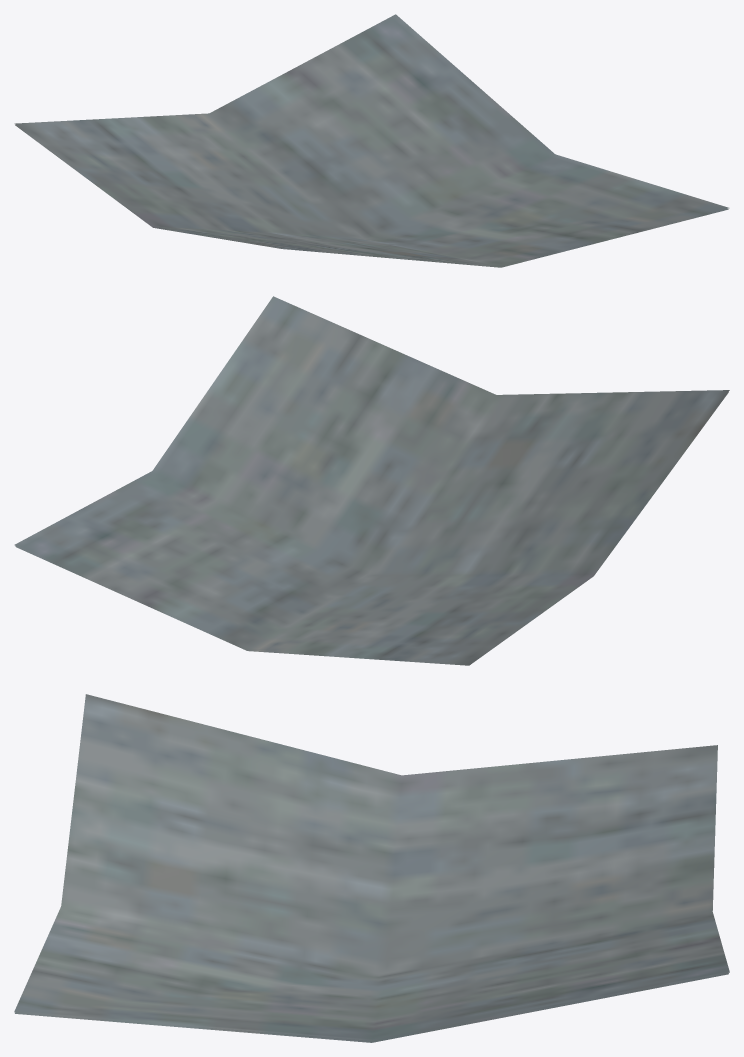
File: poi_all_tent_small_l3.fbx
3 renders of one model, top to bottom at view 1: azimuth 30°, elevation 25°; view 2: azimuth 150°, elevation 25°; view 3: azimuth 270°, elevation 25°, orthographic. The views are drawn at different scales.
Parts seen in each view (by area): view 1: mesh_node; view 2: mesh_node; view 3: mesh_node.
Part boxes in pixels (left/top/right/bottom): mesh_node: left=14, top=14, right=729, bottom=267; mesh_node: left=14, top=296, right=729, bottom=665; mesh_node: left=14, top=694, right=729, bottom=1042.
Size of the model in its own units: 4.8 by 1.31 by 5.24.
Materials: 1 (1 with a texture image).
